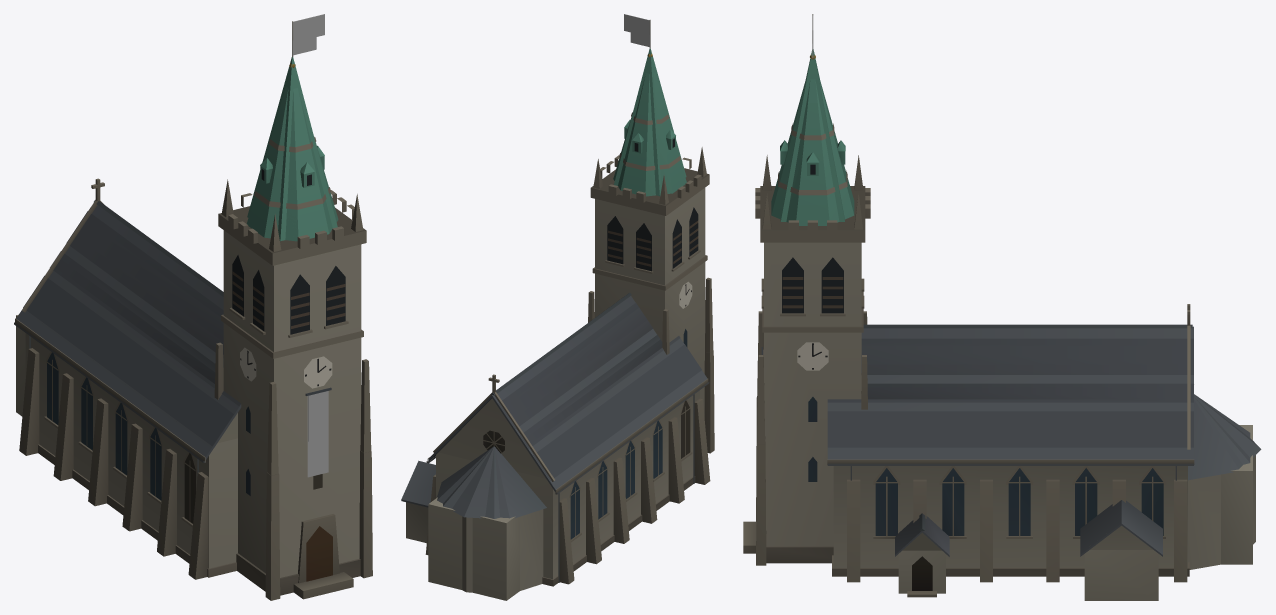
Rendered from bld_any_church.glb.
The picture shows the model from 3 angles, left to right: view 1: azimuth 30°, elevation 25°; view 2: azimuth 150°, elevation 25°; view 3: azimuth 270°, elevation 25°; orthographic projection. The views are drawn at different scales.
Parts seen in each view (by area): view 1: bld_any_church_LOD0_mesh, bld_any_church_LOD1_mesh, bld_any_church_LOD2_mesh; view 2: bld_any_church_LOD0_mesh, bld_any_church_LOD1_mesh, bld_any_church_LOD2_mesh; view 3: bld_any_church_LOD0_mesh, bld_any_church_LOD1_mesh, bld_any_church_LOD2_mesh.
Part boxes in pixels (box(x1,y1,x2,y2)): bld_any_church_LOD0_mesh: box(14, 14, 372, 600); bld_any_church_LOD1_mesh: box(16, 15, 366, 568); bld_any_church_LOD2_mesh: box(16, 34, 361, 577); bld_any_church_LOD0_mesh: box(401, 14, 714, 592); bld_any_church_LOD1_mesh: box(443, 14, 707, 586); bld_any_church_LOD2_mesh: box(428, 30, 686, 600); bld_any_church_LOD0_mesh: box(743, 14, 1261, 600); bld_any_church_LOD1_mesh: box(760, 17, 1250, 567); bld_any_church_LOD2_mesh: box(764, 44, 1252, 564).
Size of the model in its own units: 16.25 by 39.4 by 35.07.
